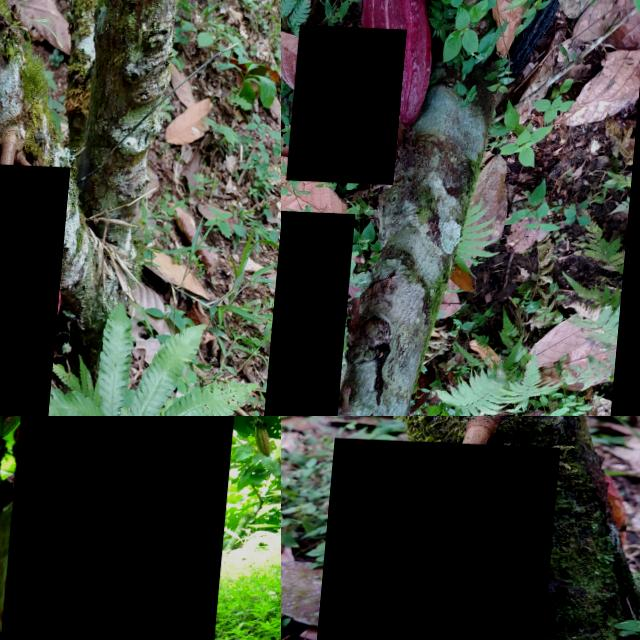Fitoftora: (0, 416, 236, 640), (0, 159, 74, 416)
Monilia: (291, 22, 409, 181)
Sana: (314, 436, 564, 640), (281, 207, 360, 416), (354, 0, 439, 123)
